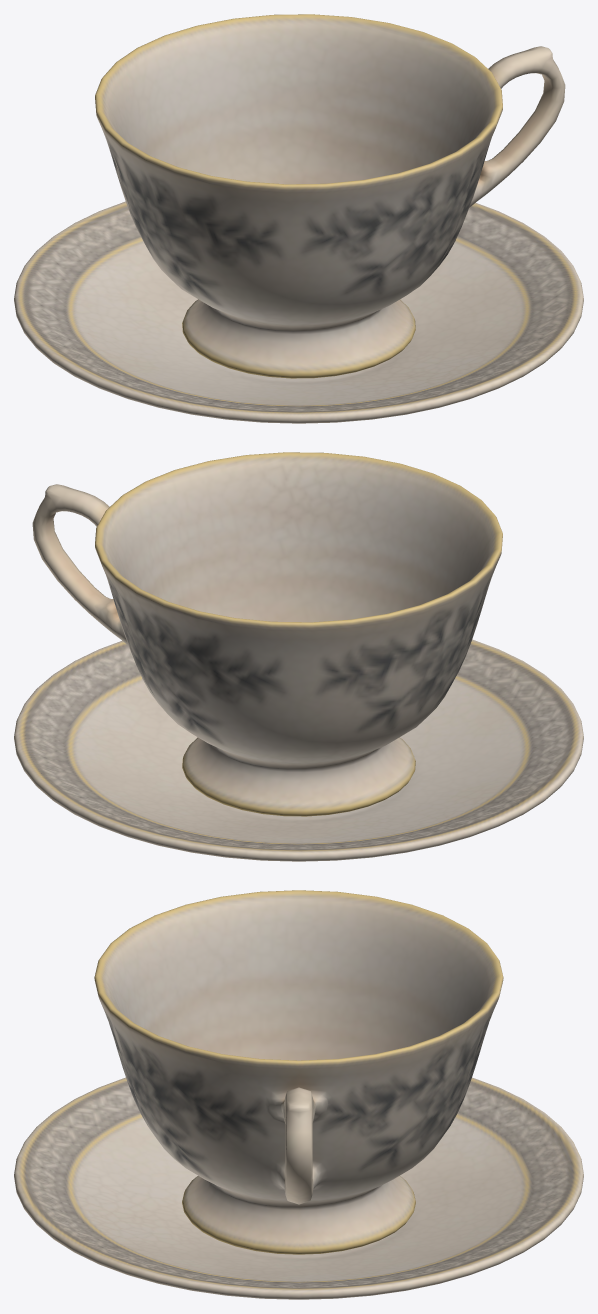
Rendered from cup-and-saucer.glb.
3 views of the same model, one above another, from view 1: azimuth 30°, elevation 25°; view 2: azimuth 150°, elevation 25°; view 3: azimuth 270°, elevation 25° (orthographic).
Parts seen in each view (by area): view 1: tea_set_01_cup_small_01, tea_set_01_saucer_circular_03; view 2: tea_set_01_cup_small_01, tea_set_01_saucer_circular_03; view 3: tea_set_01_cup_small_01, tea_set_01_saucer_circular_03.
Part boxes in pixels (box(x1,y1,x2,y2)): tea_set_01_cup_small_01: box(95, 14, 565, 378); tea_set_01_saucer_circular_03: box(14, 201, 583, 423); tea_set_01_cup_small_01: box(32, 452, 502, 816); tea_set_01_saucer_circular_03: box(14, 639, 583, 861); tea_set_01_cup_small_01: box(94, 890, 503, 1254); tea_set_01_saucer_circular_03: box(14, 1077, 583, 1299).
Bounding box in the file's own units: 0.154 × 0.0723 × 0.149.
Materials: 1 (1 with a texture image).
